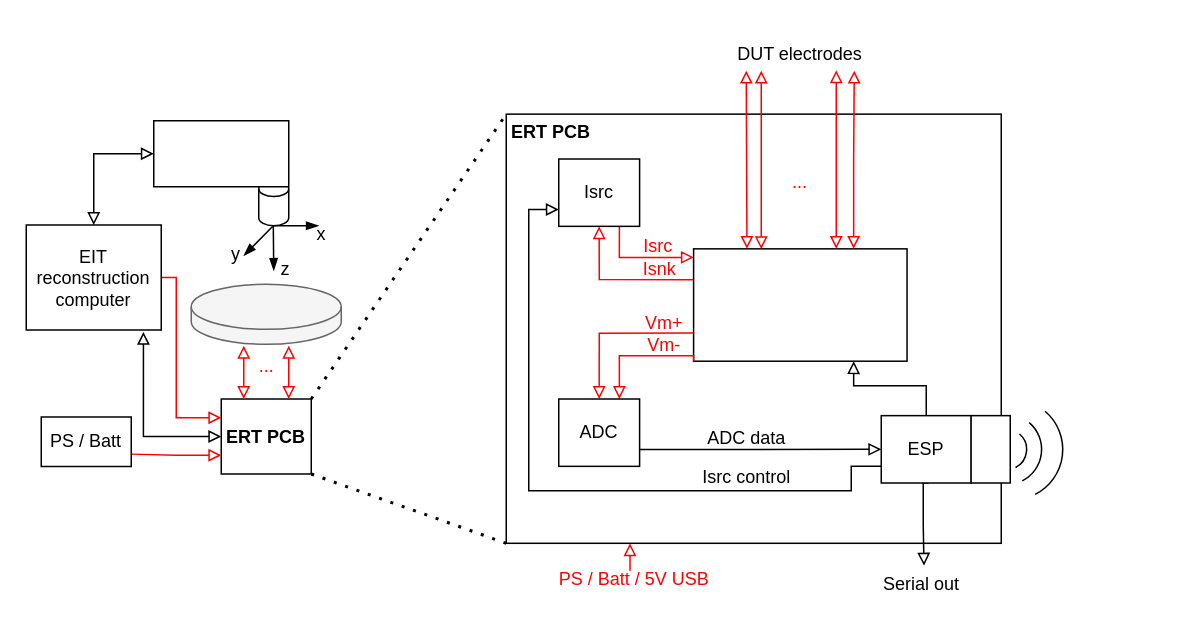
This 1200x630 diagram has some shape labels left out. The box of each missing label's shape, as (x1, y1, x2, y2) in pixels:
4:16 MUX: (692, 247, 907, 361)
Cartesian force applicator: (152, 119, 289, 187)
DUT: (190, 283, 341, 344)
Serial out (BT/WiFi): (1053, 422, 1173, 476)
